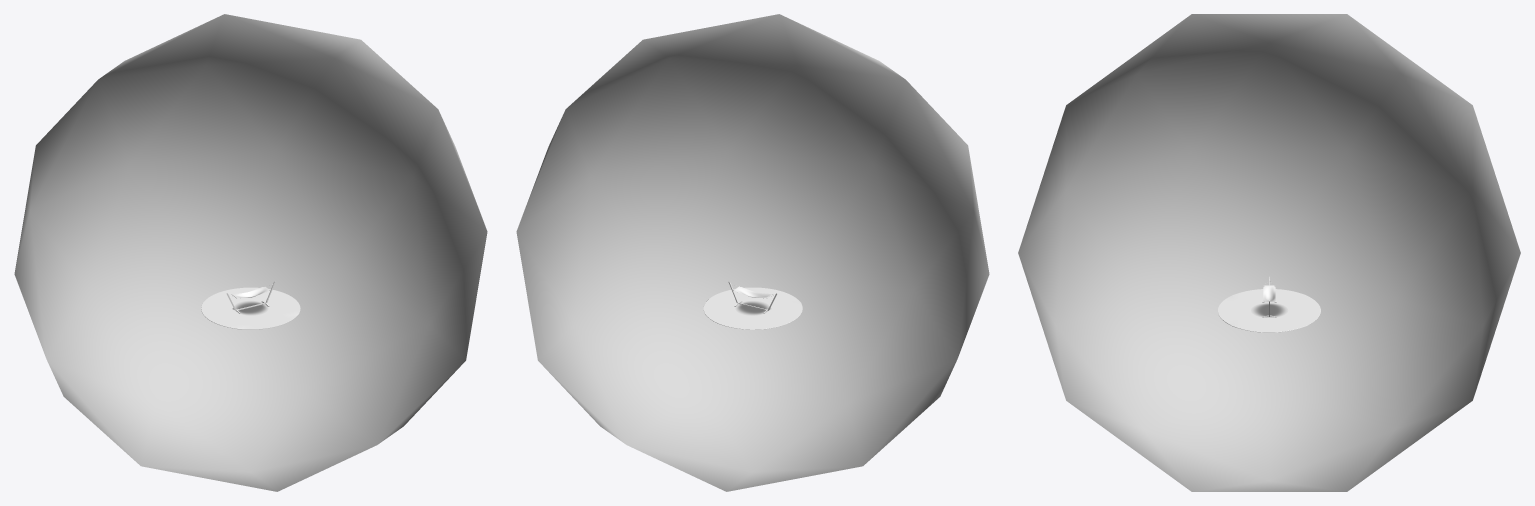
Rendered from plv_chaise.gltf.
3 views of the same model, side by side, from view 1: azimuth 30°, elevation 25°; view 2: azimuth 150°, elevation 25°; view 3: azimuth 270°, elevation 25° (orthographic). The views are drawn at different scales.
Visible parts, largest first — view 1: Icosphere, Floor_wood; view 2: Icosphere, Floor_wood; view 3: Icosphere, Floor_wood.
Part boxes in pixels (x1,y1,x2,y2): Icosphere: [14, 14, 487, 491]; Floor_wood: [201, 287, 300, 329]; Icosphere: [516, 14, 989, 491]; Floor_wood: [703, 287, 802, 329]; Icosphere: [1018, 14, 1520, 491]; Floor_wood: [1218, 289, 1320, 332].
Size of the model in its own units: 14.35 by 15.09 by 15.09.
Materials: 9 (1 with a texture image).
